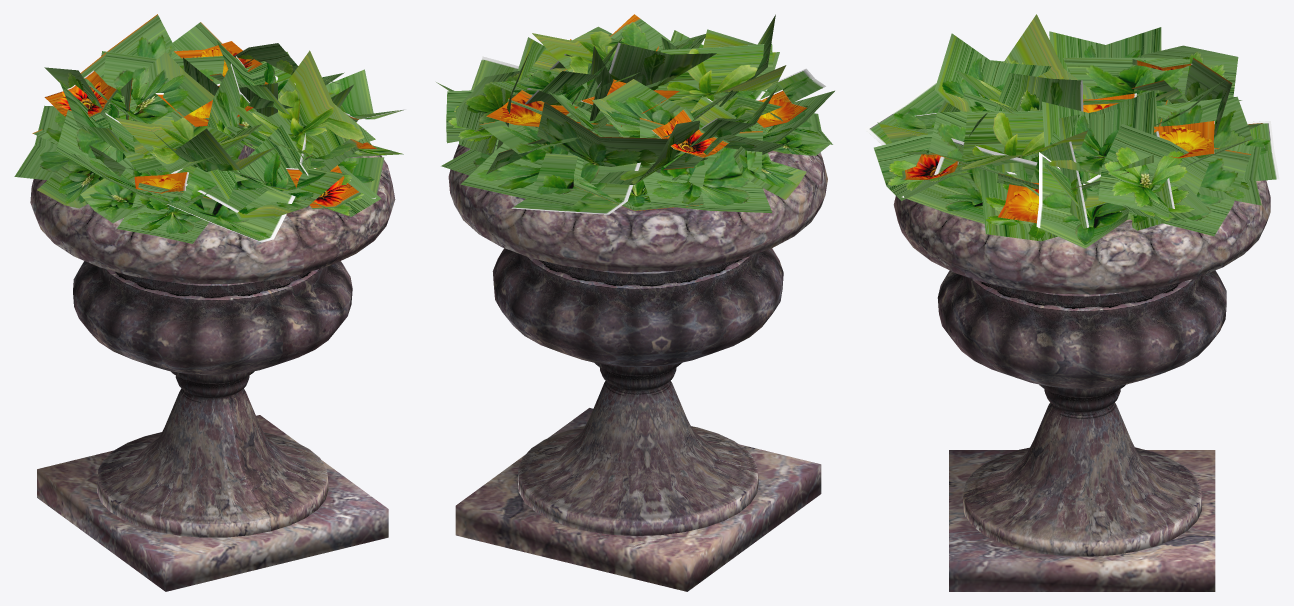
File: flower.glb
The picture shows the model from 3 angles, left to right: view 1: azimuth 30°, elevation 25°; view 2: azimuth 150°, elevation 25°; view 3: azimuth 270°, elevation 25°; orthographic projection. The views are drawn at different scales.
Parts seen in each view (by area): view 1: flower; view 2: flower; view 3: flower.
Boxes of the visible parts, x1=… form: flower: x1=14, y1=14, x2=405, y2=591; flower: x1=436, y1=14, x2=834, y2=591; flower: x1=865, y1=14, x2=1279, y2=591.
Size of the model in its own units: 0.5553 by 0.711 by 0.5718.
Materials: 2 (2 with a texture image).
